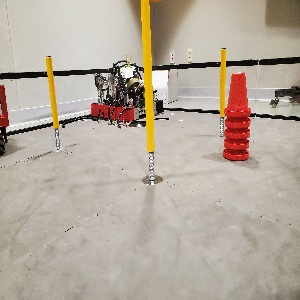Red_5: (222, 68, 251, 162)
